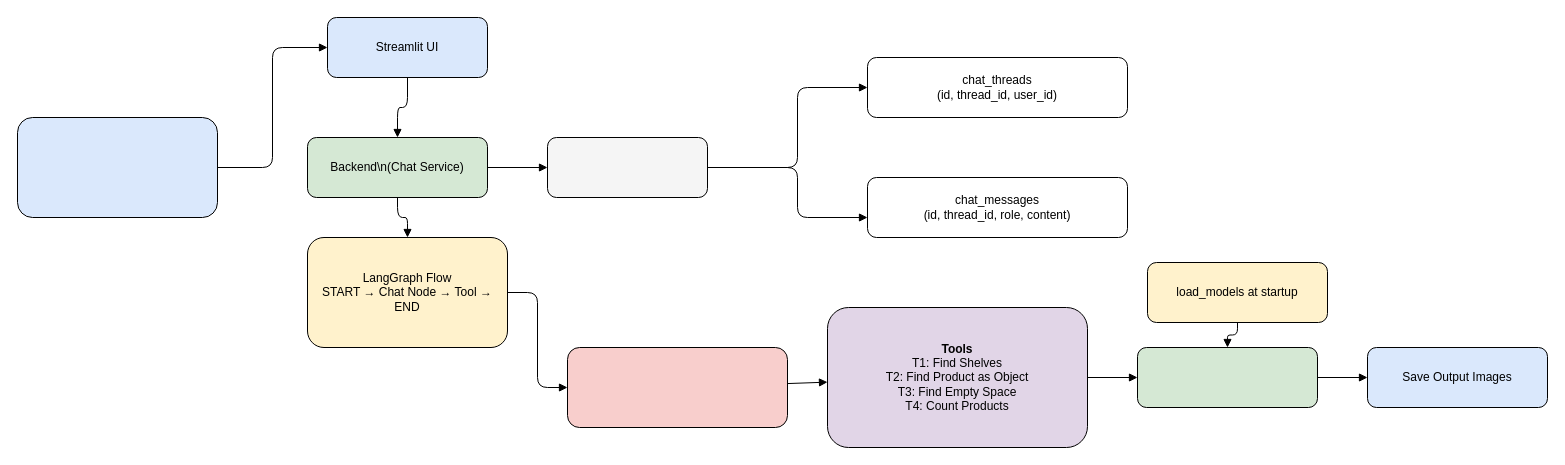
This 1565x465 diagram has some shape labels left out. Here are the shapes that lost their labels. From the top down, the centre of each, then its label:
pixel 117 167: UI Chat Text + Image Upload
pixel 627 167: Database
pixel 677 387: GPT-3.5 Turbo / LLM Model.bind(tools)
pixel 1227 377: Inference Layer
